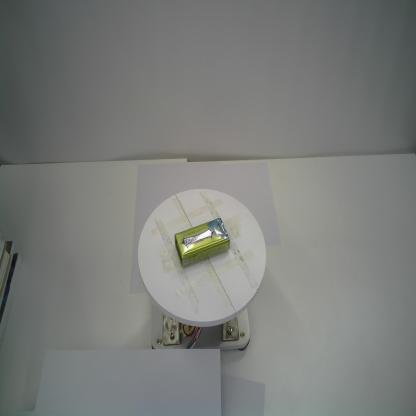Gum: (174, 217, 230, 269)
